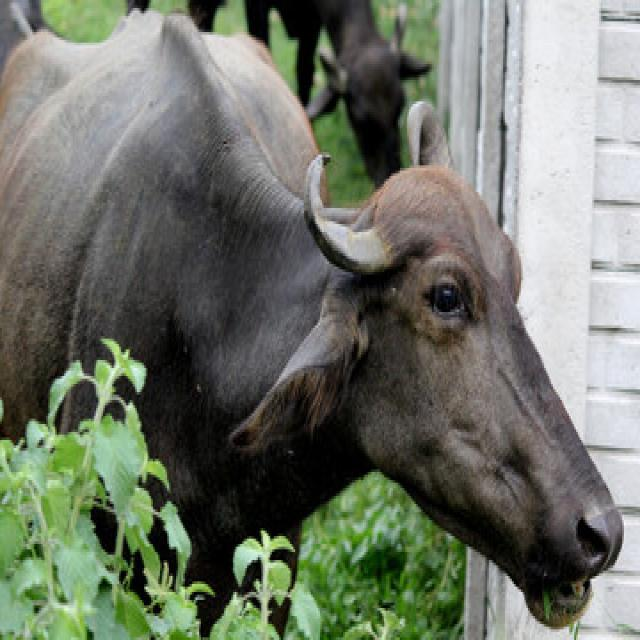Buffalo: (1, 3, 622, 632)
